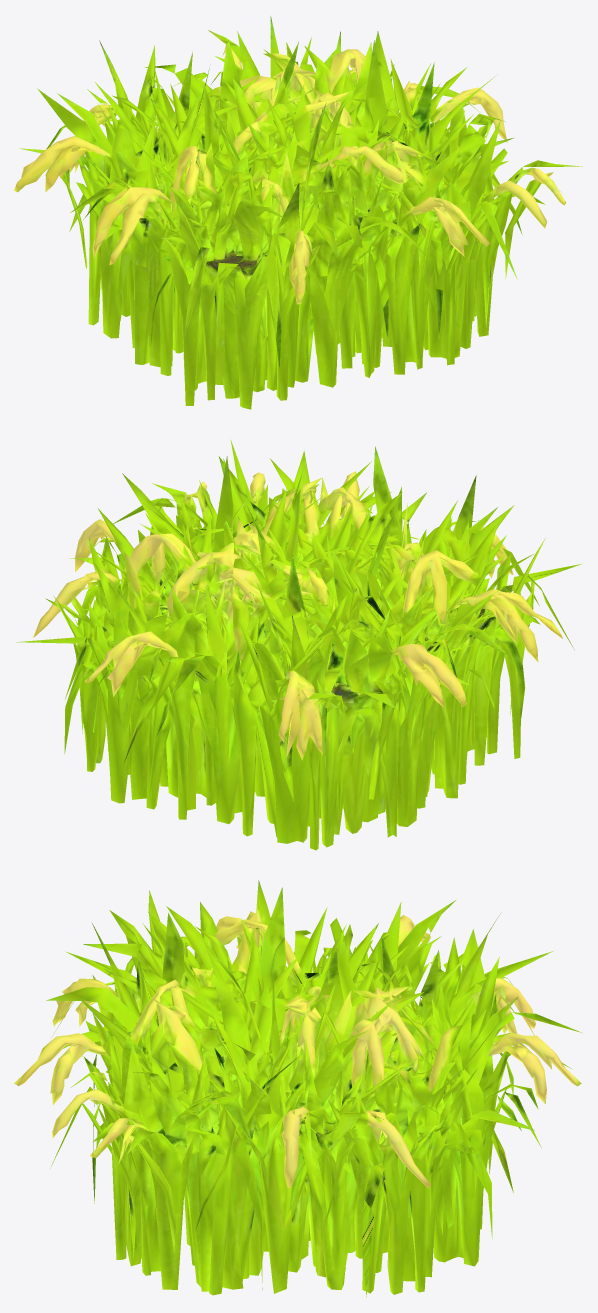
File: rice-stage-4.glb
3 views of the same model, one above another, from view 1: azimuth 30°, elevation 25°; view 2: azimuth 150°, elevation 25°; view 3: azimuth 270°, elevation 25° (orthographic). The views are drawn at different scales.
Visible parts, largest first — view 1: Mesh_0; view 2: Mesh_0; view 3: Mesh_0.
Part boxes in pixels (x1=…): Mesh_0: x1=14, y1=16, x2=582, y2=409; Mesh_0: x1=16, y1=440, x2=582, y2=850; Mesh_0: x1=14, y1=880, x2=581, y2=1297.
Size of the model in its own units: 0.5022 by 0.3 by 0.522.
1 material, 1 textured.
